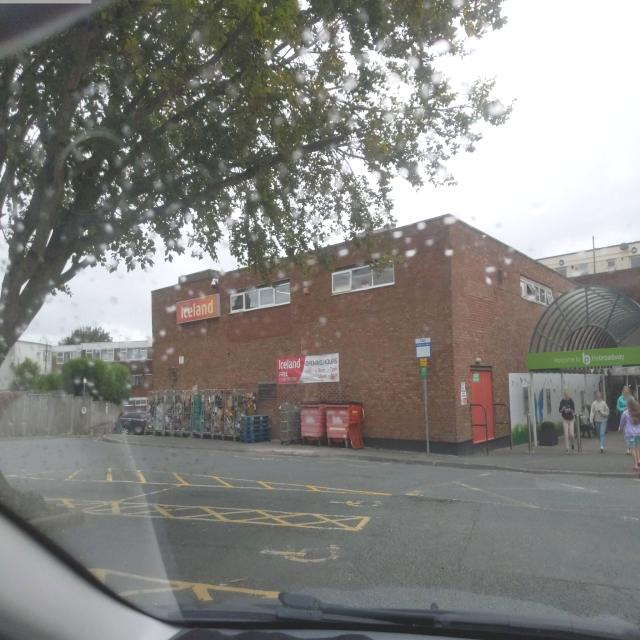car: (114, 410, 148, 435)
